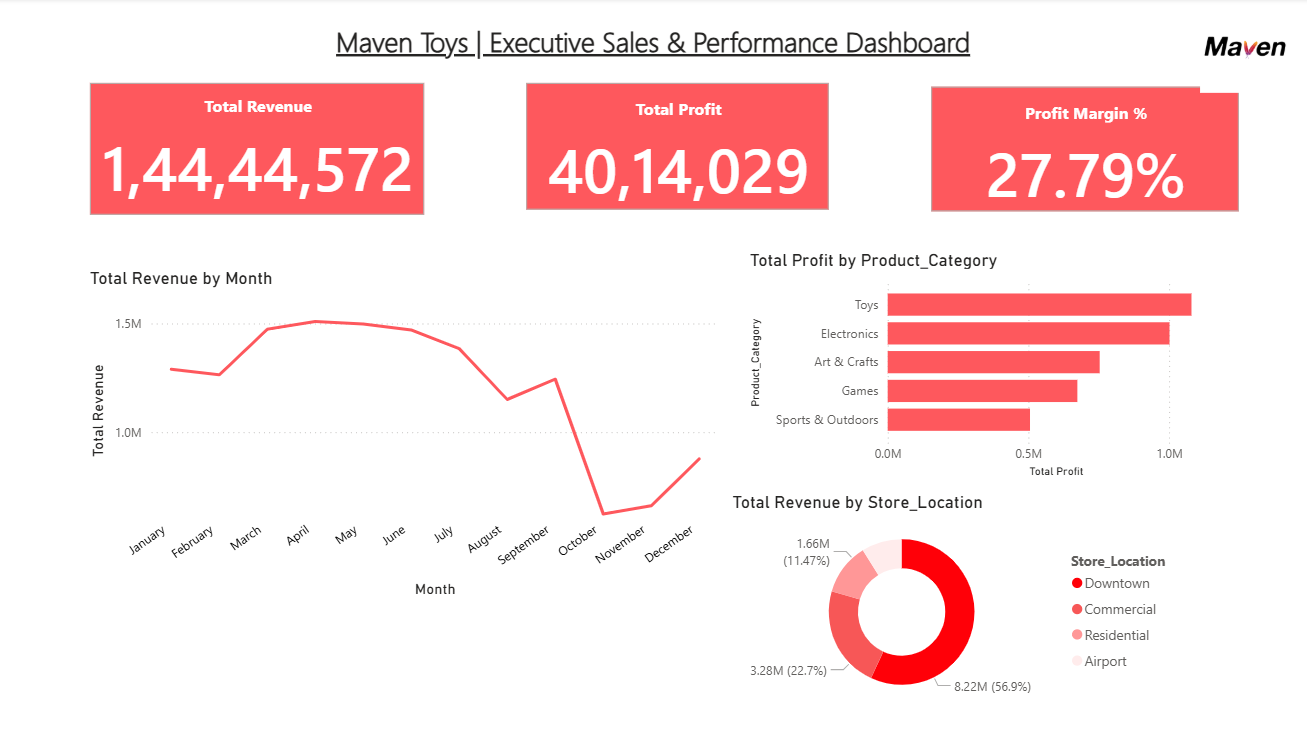

The page's visual inventory and layout, read from the dashboard file:
{"tool":"powerbi","page":{"name":"Page 1","canvas":[1280,720],"ordinal":0},"visuals":[{"type":"cardVisual","fields":{"Data":["Calendar.Total Revenue"]},"box":[83.2,78.3,337.5,139.4],"z":0},{"type":"cardVisual","fields":{"Data":["Calendar.Total Profit"]},"box":[509.9,78.3,306.9,134.5],"z":1000},{"type":"cardVisual","fields":{"Data":["Calendar.Profit Margin %"]},"box":[906.1,81.9,311.8,132.1],"z":2000},{"type":"lineChart","fields":{"Category":["Calendar.Date.Variation.Date Hierarchy.Year","Calendar.Date.Variation.Date Hierarchy.Month"],"Y":["Calendar.Total Revenue"]},"box":[83.2,264.1,624.9,327.7],"z":3000},{"type":"clusteredBarChart","fields":{"Category":["products.Product_Category"],"Y":["Calendar.Total Profit"]},"box":[728.8,245.8,489.1,228.7],"z":4000},{"type":"image","box":[1155.4,0,124.9,97.4],"z":6000},{"type":"donutChart","fields":{"Category":["stores.Store_Location"],"Y":["Calendar.Total Revenue"]},"box":[711.7,483,450,216.4],"z":6001},{"type":"textbox","box":[281.3,19.6,715.4,58.7],"z":6002}]}

Visuals, with their boxes in screenshot pixels (x1, y1, x2, y2), scaled from the page's 1280x720 canvas onto the 1307x730 screenshot:
cardVisual - Calendar.Total Revenue: <bbox>85, 79, 430, 221</bbox>
cardVisual - Calendar.Total Profit: <bbox>521, 79, 834, 216</bbox>
cardVisual - Calendar.Profit Margin %: <bbox>925, 83, 1244, 217</bbox>
lineChart - Calendar.Date.Variation.Date Hierarchy.Year x Calendar.Date.Variation.Date Hierarchy.Month: <bbox>85, 268, 723, 600</bbox>
clusteredBarChart - products.Product_Category x Calendar.Total Profit: <bbox>744, 249, 1244, 481</bbox>
image: <bbox>1180, 0, 1306, 99</bbox>
donutChart - stores.Store_Location x Calendar.Total Revenue: <bbox>727, 490, 1186, 709</bbox>
textbox: <bbox>287, 20, 1018, 79</bbox>
